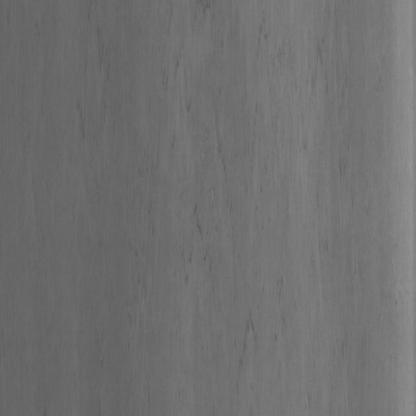silk_spot: (138, 10, 300, 370)
